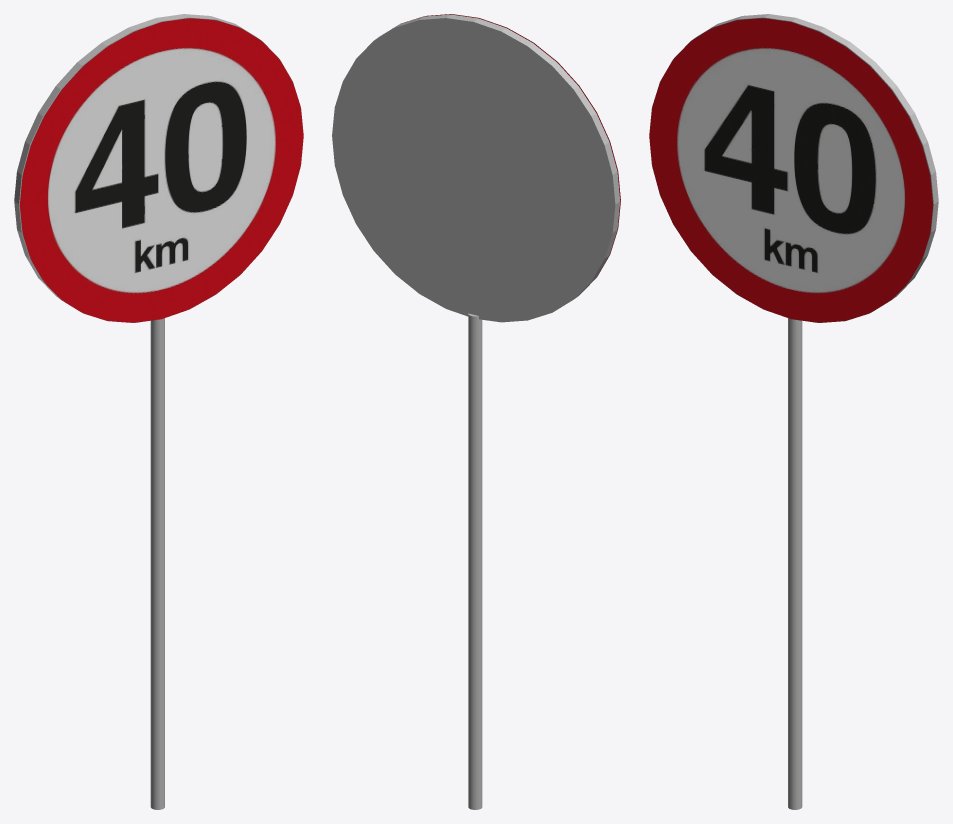
File: 40sign.fbx
3 renders of one model, left to right at view 1: azimuth 30°, elevation 25°; view 2: azimuth 150°, elevation 25°; view 3: azimuth 330°, elevation 25°, orthographic.
Parts seen in each view (by area): view 1: Circle, Cylinder, Circle.001; view 2: Circle.001, Cylinder, Circle; view 3: Circle, Cylinder, Circle.001.
Part boxes in pixels (bbox=[...]): Circle: bbox=[19, 18, 303, 322]; Cylinder: bbox=[150, 318, 164, 809]; Circle.001: bbox=[14, 14, 259, 299]; Circle.001: bbox=[332, 14, 620, 322]; Cylinder: bbox=[468, 313, 482, 809]; Circle: bbox=[392, 14, 620, 290]; Circle: bbox=[649, 18, 933, 322]; Cylinder: bbox=[788, 318, 802, 809]; Circle.001: bbox=[693, 14, 938, 299].
Size of the model in its own units: 4620 by 12246 by 210.
2 materials, 1 textured.
